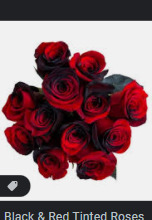RedRose: (41, 68, 85, 112), (18, 103, 64, 138), (55, 121, 96, 157)
